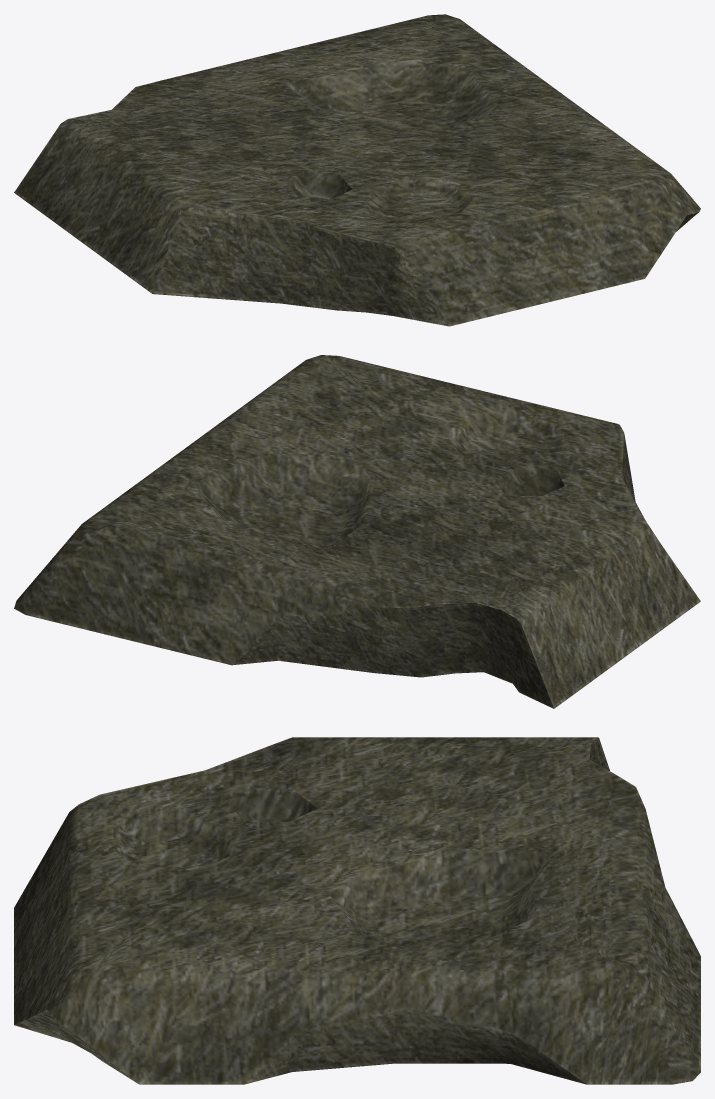
File: sb_obj_outdoor029_house02_roof_b_ruins.fbx
The picture shows the model from 3 angles, top to bottom: view 1: azimuth 30°, elevation 25°; view 2: azimuth 150°, elevation 25°; view 3: azimuth 270°, elevation 25°; orthographic projection. The views are drawn at different scales.
Visible parts, largest first — view 1: sb_obj_outdoor029_house02_roof_b_ruins; view 2: sb_obj_outdoor029_house02_roof_b_ruins; view 3: sb_obj_outdoor029_house02_roof_b_ruins.
Part boxes in pixels (x1,y1,x2,y2): sb_obj_outdoor029_house02_roof_b_ruins: [14, 14, 700, 326]; sb_obj_outdoor029_house02_roof_b_ruins: [14, 355, 700, 708]; sb_obj_outdoor029_house02_roof_b_ruins: [14, 737, 700, 1084].
Size of the model in its own units: 3.6 by 0.4999 by 3.6.
